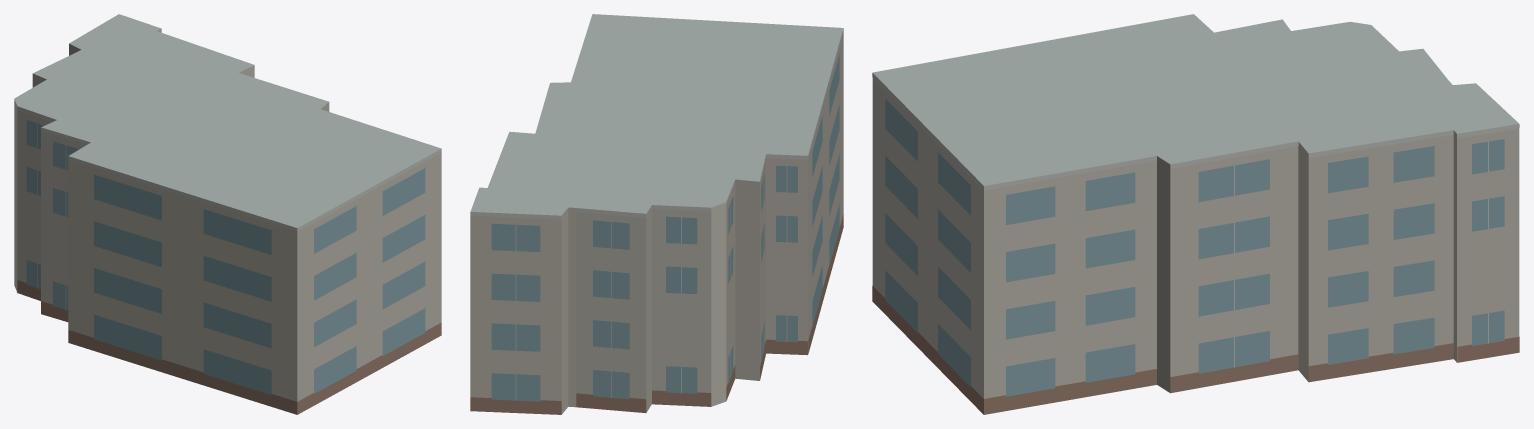
File: survey-upis-32673663.glb
3 renders of one model, left to right at view 1: azimuth 30°, elevation 25°; view 2: azimuth 150°, elevation 25°; view 3: azimuth 270°, elevation 25°, orthographic. The views are drawn at different scales.
Parts seen in each view (by area): view 1: survey-upis-32673663.tmp; view 2: survey-upis-32673663.tmp; view 3: survey-upis-32673663.tmp.
Boxes of the visible parts, x1,y1,x2,y2 form: survey-upis-32673663.tmp: (14,14,441,414); survey-upis-32673663.tmp: (470,14,843,414); survey-upis-32673663.tmp: (872,14,1519,414).
Bounding box in the file's own units: 19.52 × 12.1 × 31.01.
